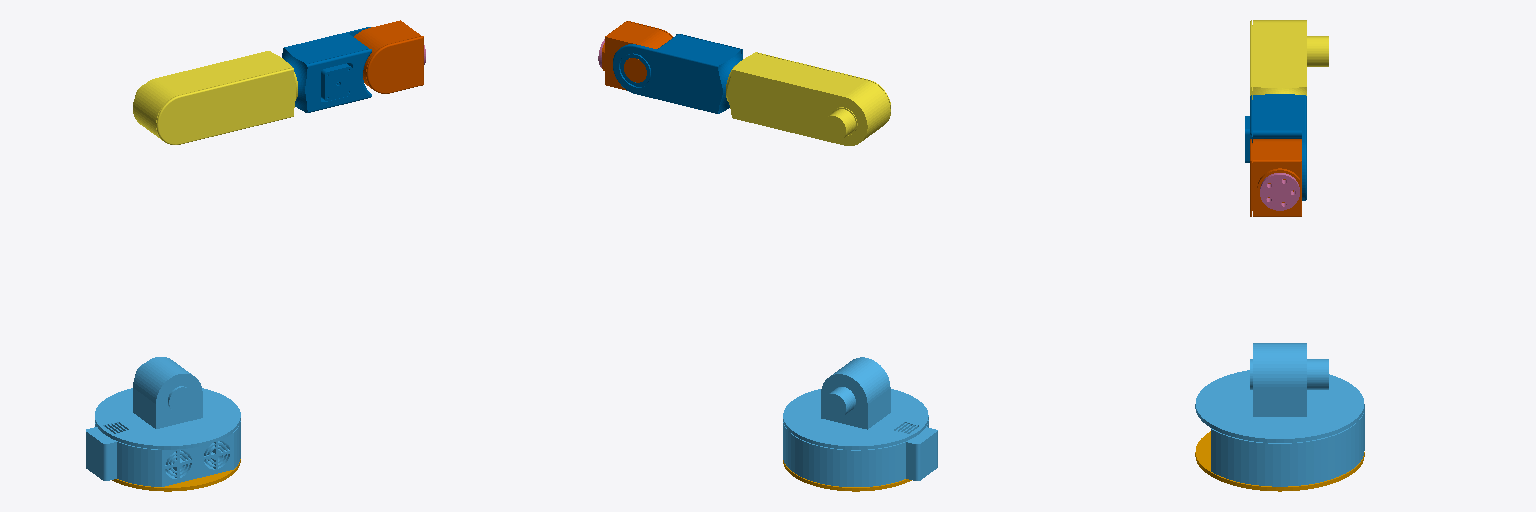
URDF robot description (my_robot):
<?xml version="1.0"?>
<robot name="my_robot">

  <!-- ********  FIXED GROUND  ******** -->
  <link name="fixed_ground">
    <visual>
      <geometry><mesh filename="mesh/fixed_ground.stl" scale="0.001 0.001 0.001"/></geometry>
    </visual>
    <collision>
      <geometry><mesh filename="mesh/fixed_ground.stl" scale="0.001 0.001 0.001"/></geometry>
    </collision>
    <inertial>
      <mass value="0.001"/>
      <inertia ixx="0.001" ixy="0.0" ixz="0.0" iyy="0.001" iyz="0.0" izz="0.001"/>
    </inertial>
  </link>

  <!-- ********  BASE  ******** -->
  <link name="base">
    <visual>
      <geometry><mesh filename="mesh/base.stl" scale="0.001 0.001 0.001"/></geometry>
    </visual>
    <collision>
      <geometry><mesh filename="../mesh/base.stl" scale="0.001 0.001 0.001"/></geometry>
    </collision>
    <inertial>
      <mass value="0.8"/>
      <inertia ixx="0.001" ixy="0.0" ixz="0.0" iyy="0.001" iyz="0.0" izz="0.001"/>
    </inertial>
  </link>

  <joint name="joint0" type="revolute">
    <parent link="fixed_ground"/>
    <child link="base"/>
    <origin xyz="0 0 0.025" rpy="0 0 0"/>
    <axis xyz="0 0 1"/>
    <limit lower="-3.14" upper="3.14" effort="10" velocity="5"/>
  </joint>

  <!-- ********  LINK1  ******** -->
  <link name="link1">
    <visual>
      <geometry><mesh filename="../mesh/link1.stl" scale="0.001 0.001 0.001"/></geometry>
    </visual>
    <collision>
      <geometry><mesh filename="../mesh/link1.stl" scale="0.001 0.001 0.001"/></geometry>
    </collision>
    <inertial>
      <mass value="0.5"/>
      <inertia ixx="0.001" ixy="0.0" ixz="0.0" iyy="0.001" iyz="0.0" izz="0.001"/>
    </inertial>
  </link>

  <joint name="joint1" type="revolute">
    <parent link="base"/>
    <child link="link1"/>
    <origin xyz="0 0 0.076" rpy="0 0 0"/>
    <axis xyz="0 1 0"/>
    <limit lower="-3.14" upper="3.14" effort="10" velocity="5"/>
  </joint>

  <!-- ********  LINK2  ******** -->
  <link name="link2">
    <visual>
      <geometry><mesh filename="../mesh/link2.stl" scale="0.001 0.001 0.001"/></geometry>
    </visual>
    <collision>
      <geometry><mesh filename="../mesh/link2.stl" scale="0.001 0.001 0.001"/></geometry>
    </collision>
    <inertial>
      <mass value="0.4"/>
      <inertia ixx="0.001" ixy="0.0" ixz="0.0" iyy="0.001" iyz="0.0" izz="0.001"/>
    </inertial>
  </link>

  <joint name="joint2" type="revolute">
    <parent link="link1"/>
    <child link="link2"/>
    <origin xyz="0 0 0.4" rpy="0 0 0"/>
    <axis xyz="0 1 0"/>
    <limit lower="-3.14" upper="3.14" effort="10" velocity="5"/>
  </joint>

  <!-- ********  LINK3  ******** -->
  <link name="link3">
    <visual>
      <geometry><mesh filename="../mesh/link3.stl" scale="0.001 0.001 0.001"/></geometry>
    </visual>
    <collision>
      <geometry><mesh filename="../mesh/link3.stl" scale="0.001 0.001 0.001"/></geometry>
    </collision>
    <inertial>
      <mass value="0.3"/>
      <inertia ixx="0.001" ixy="0.0" ixz="0.0" iyy="0.001" iyz="0.0" izz="0.001"/>
    </inertial>
  </link>

  <joint name="joint3" type="revolute">
    <parent link="link2"/>
    <child link="link3"/>
    <origin xyz="0.18 0 0" rpy="0 0 0"/>
    <axis xyz="1 0 0"/>
    <limit lower="-3.14" upper="3.14" effort="10" velocity="5"/>
  </joint>

  <!-- ********  LINK4  ******** -->
  <link name="link4">
    <visual>
      <geometry><mesh filename="../mesh/link4.stl" scale="0.001 0.001 0.001"/></geometry>
    </visual>
    <collision>
      <geometry><mesh filename="../mesh/link4.stl" scale="0.001 0.001 0.001"/></geometry>
    </collision>
    <inertial>
      <mass value="0.2"/>
      <inertia ixx="0.001" ixy="0.0" ixz="0.0" iyy="0.001" iyz="0.0" izz="0.001"/>
    </inertial>
  </link>

  <joint name="joint4" type="revolute">
    <parent link="link3"/>
    <child link="link4"/>
    <origin xyz="0.135 0 0" rpy="0 0 0"/>
    <axis xyz="0 1 0"/>
    <limit lower="-3.14" upper="3.14" effort="10" velocity="5"/>
  </joint>

  <!-- ********  LINK5  ******** -->
  <link name="link5">
    <visual>
      <geometry><mesh filename="mesh/link5.stl" scale="0.001 0.001 0.001"/></geometry>
    </visual>
    <collision>
      <geometry><mesh filename="mesh/link5.stl" scale="0.001 0.001 0.001"/></geometry>
    </collision>
    <inertial>
      <mass value="0.15"/>
      <inertia ixx="0.001" ixy="0.0" ixz="0.0" iyy="0.001" iyz="0.0" izz="0.001"/>
    </inertial>
  </link>

  <joint name="joint5" type="revolute">
    <parent link="link4"/>
    <child link="link5"/>
    <origin xyz="0.05 0 0" rpy="0 0 0"/>
    <axis xyz="1 0 0"/>
    <limit lower="-3.14" upper="3.14" effort="10" velocity="5"/>
  </joint>

</robot>

--- Facts derived from the render (not from the file) ---
3 views of the same robot in one strip: view 1: azimuth 30°, elevation 25°; view 2: azimuth 150°, elevation 25°; view 3: azimuth 270°, elevation 25° (orthographic).
Robot: my_robot — 7 links, 6 joints (6 revolute); root link fixed_ground; default pose: all joints at 0.
Visible links, largest first — view 1: base, link2, link3, link4, fixed_ground; view 2: base, link2, link3, link4, fixed_ground; view 3: base, link2, link3, link4, fixed_ground, link5.
Boxes of the visible links, bbox=[...] form: base: bbox=[86, 357, 240, 486]; link2: bbox=[133, 51, 297, 144]; link3: bbox=[282, 27, 371, 112]; link4: bbox=[354, 20, 423, 93]; fixed_ground: bbox=[112, 459, 240, 491]; base: bbox=[783, 357, 937, 486]; link2: bbox=[726, 52, 890, 145]; link3: bbox=[613, 34, 742, 113]; link4: bbox=[602, 21, 672, 90]; fixed_ground: bbox=[783, 460, 911, 491]; base: bbox=[1195, 343, 1364, 486]; link2: bbox=[1250, 20, 1328, 99]; link3: bbox=[1245, 94, 1306, 200]; link4: bbox=[1250, 139, 1301, 216]; fixed_ground: bbox=[1195, 431, 1364, 491]; link5: bbox=[1260, 173, 1299, 210].
Size in the robot's own frame: 0.485 by 0.19 by 0.536 metres.
Meshes: 7 distinct files referenced, 6 mesh visuals loaded (6 binary STL); not drawn: 1 (reference not matched to a file when rendering).